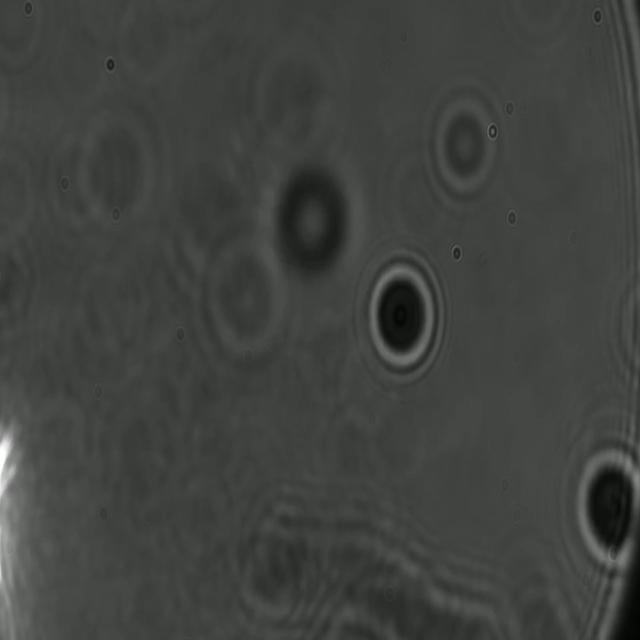DCELL: (363, 250, 449, 386)
